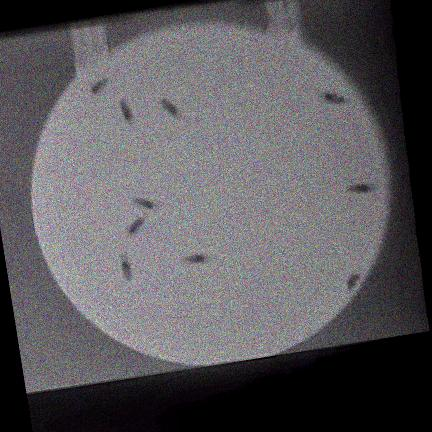fly: (161, 98, 181, 119), (318, 92, 348, 105), (119, 100, 134, 125), (126, 217, 145, 236), (132, 197, 157, 210), (90, 78, 108, 95), (121, 256, 132, 282), (346, 273, 361, 291), (184, 254, 211, 264), (348, 184, 373, 193)
